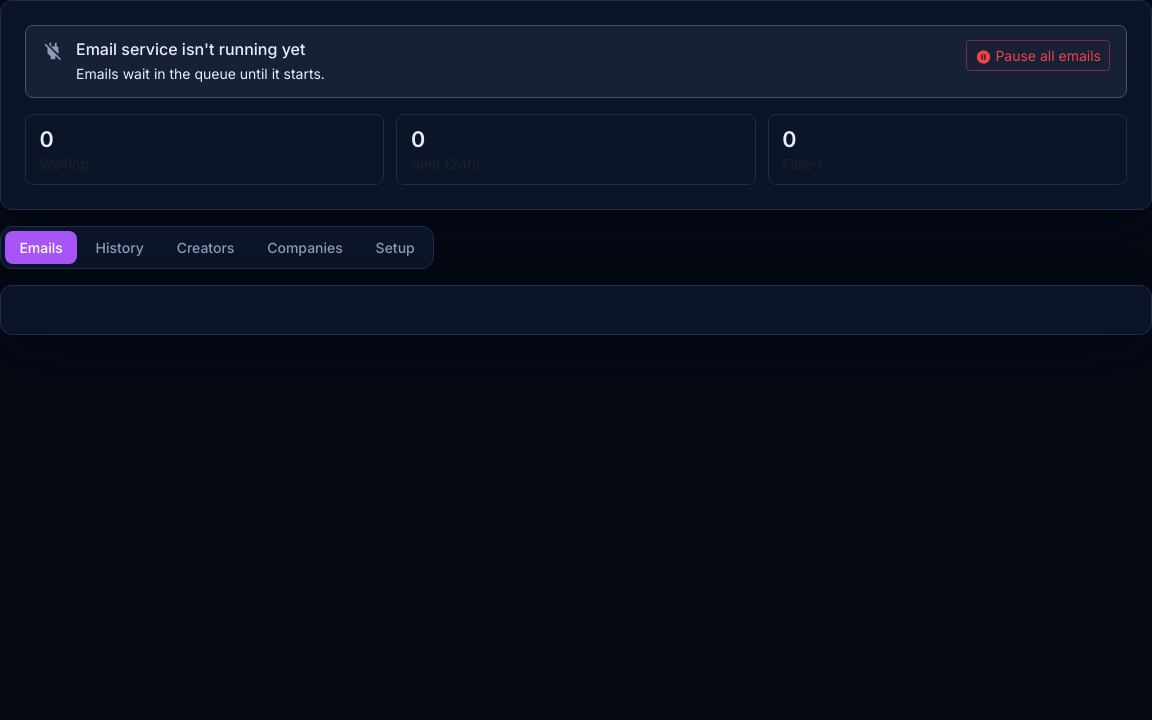
Test case: EmailTriggersPage › filters to frozen accounts
The width and height of the screenshot is (1152, 720).
Step 1. Click the tab "Creators" → (206, 248), box [162,231,249,264]
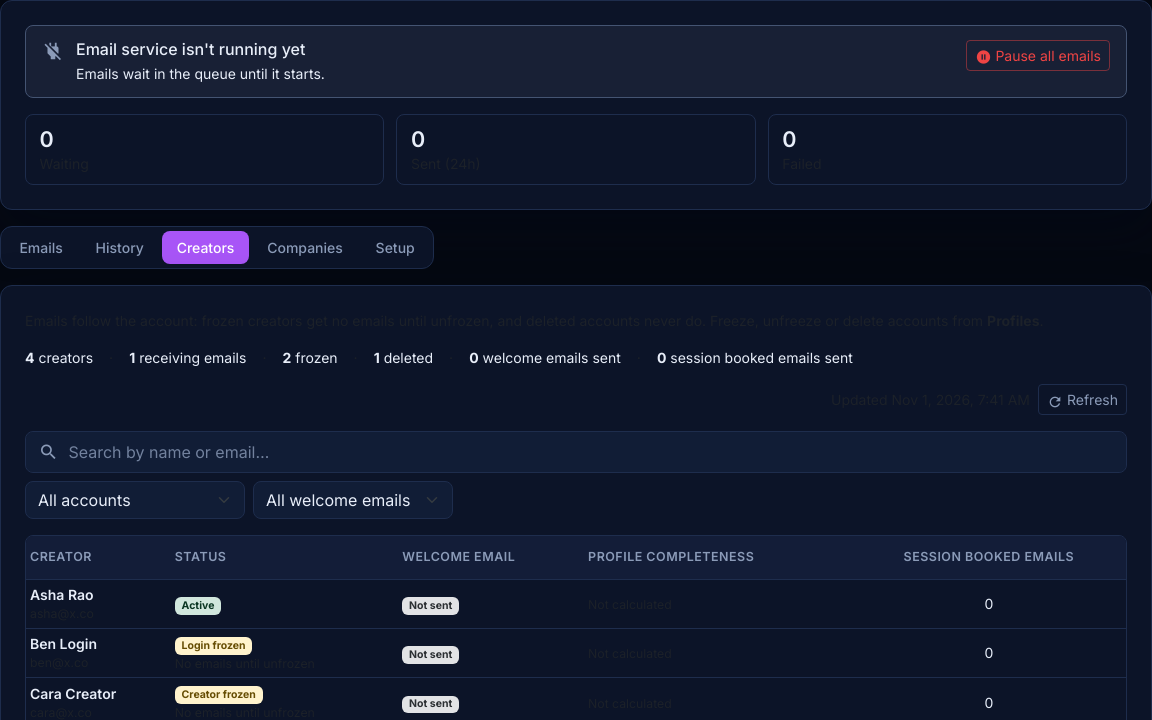
Expected: the text "Asha Rao" is shown, [30,586,94,603]
Step 2. Select "Frozen" in the dropdown named "Filter by account status" → (135, 500), box [25,481,245,519]
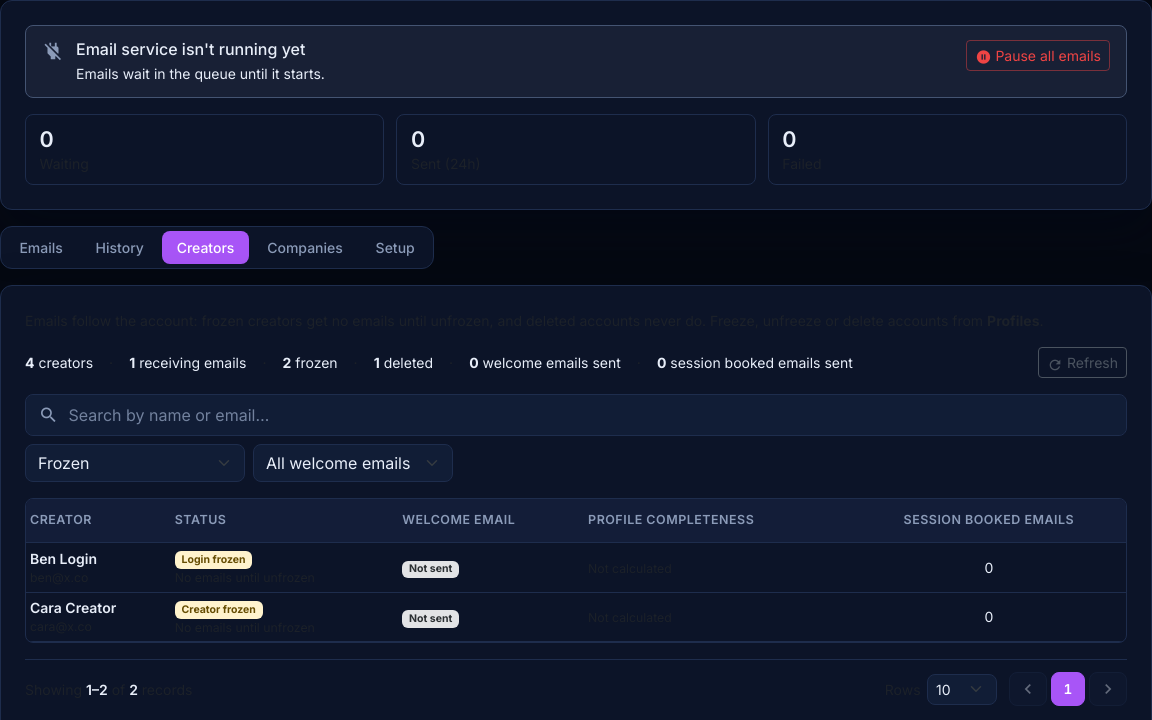
Expected: the text "Ben Login" is shown, [30,550,97,567]
Expected: the text "Cara Creator" is shown, [30,599,116,616]
Expected: the text "Asha Rao" is gone
